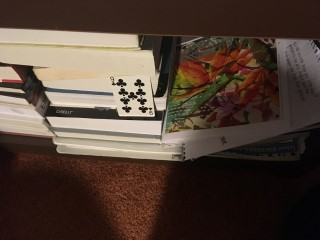NineOfClubs: (109, 76, 155, 117)
